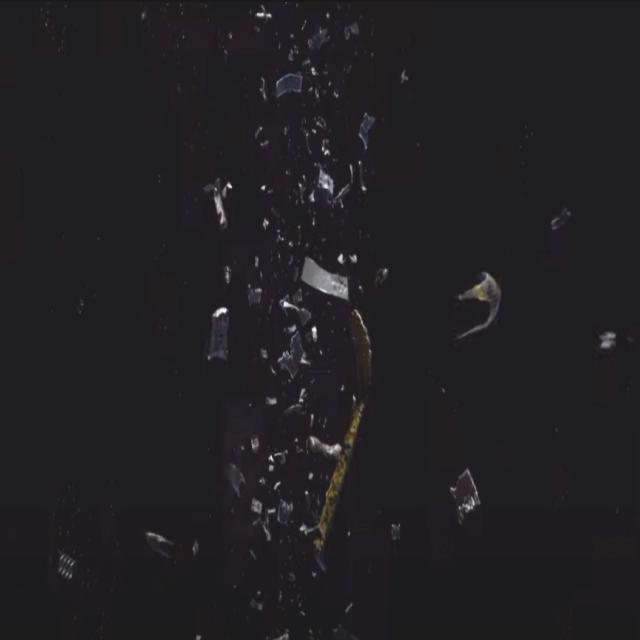large_debris: (312, 314, 376, 576), (451, 219, 509, 355), (440, 452, 480, 553), (196, 282, 236, 380), (295, 253, 350, 321), (590, 280, 624, 374), (274, 318, 309, 392), (317, 149, 355, 216), (200, 169, 232, 240), (236, 489, 272, 552), (350, 84, 374, 167), (272, 457, 300, 526), (225, 448, 254, 500), (52, 542, 83, 589), (270, 72, 300, 114), (140, 521, 173, 557)
